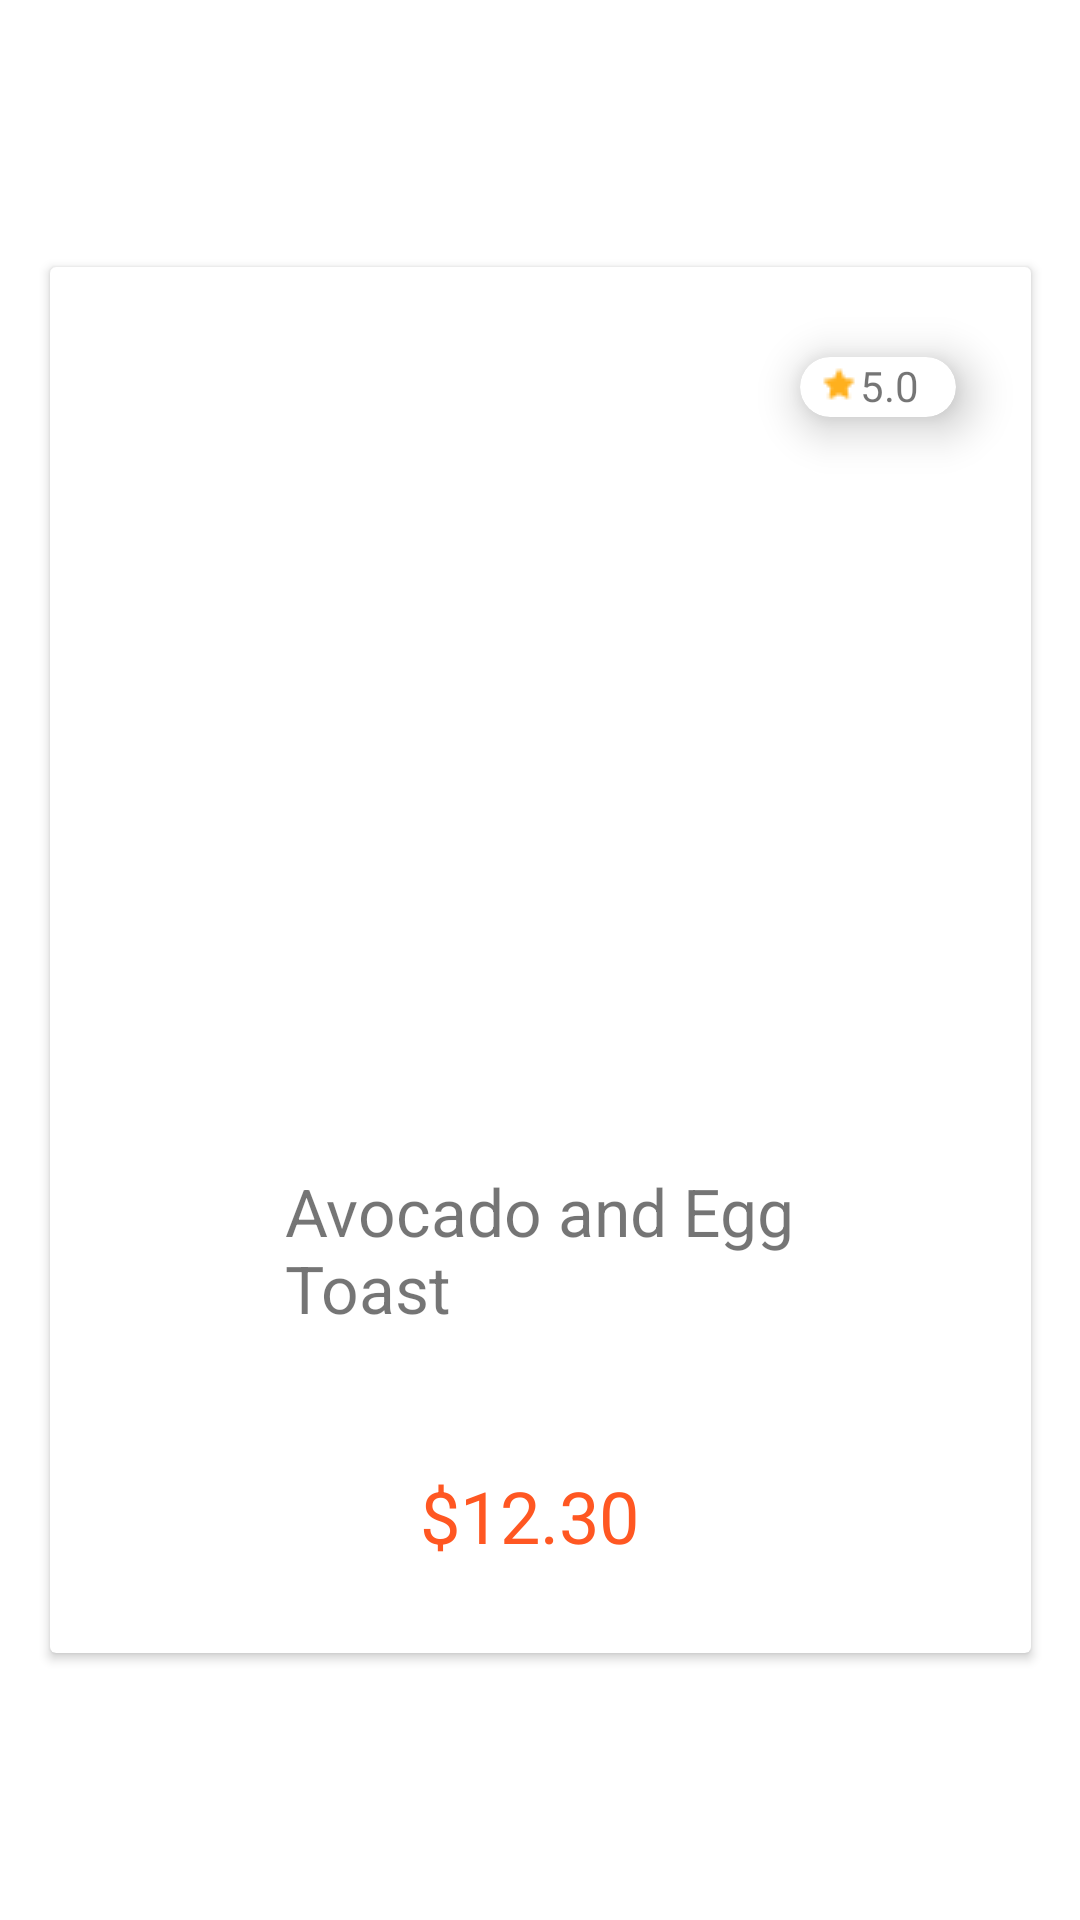

Named icons in this screenshot (1080×1920) and their centers, (x,y):
star: (839,384)
